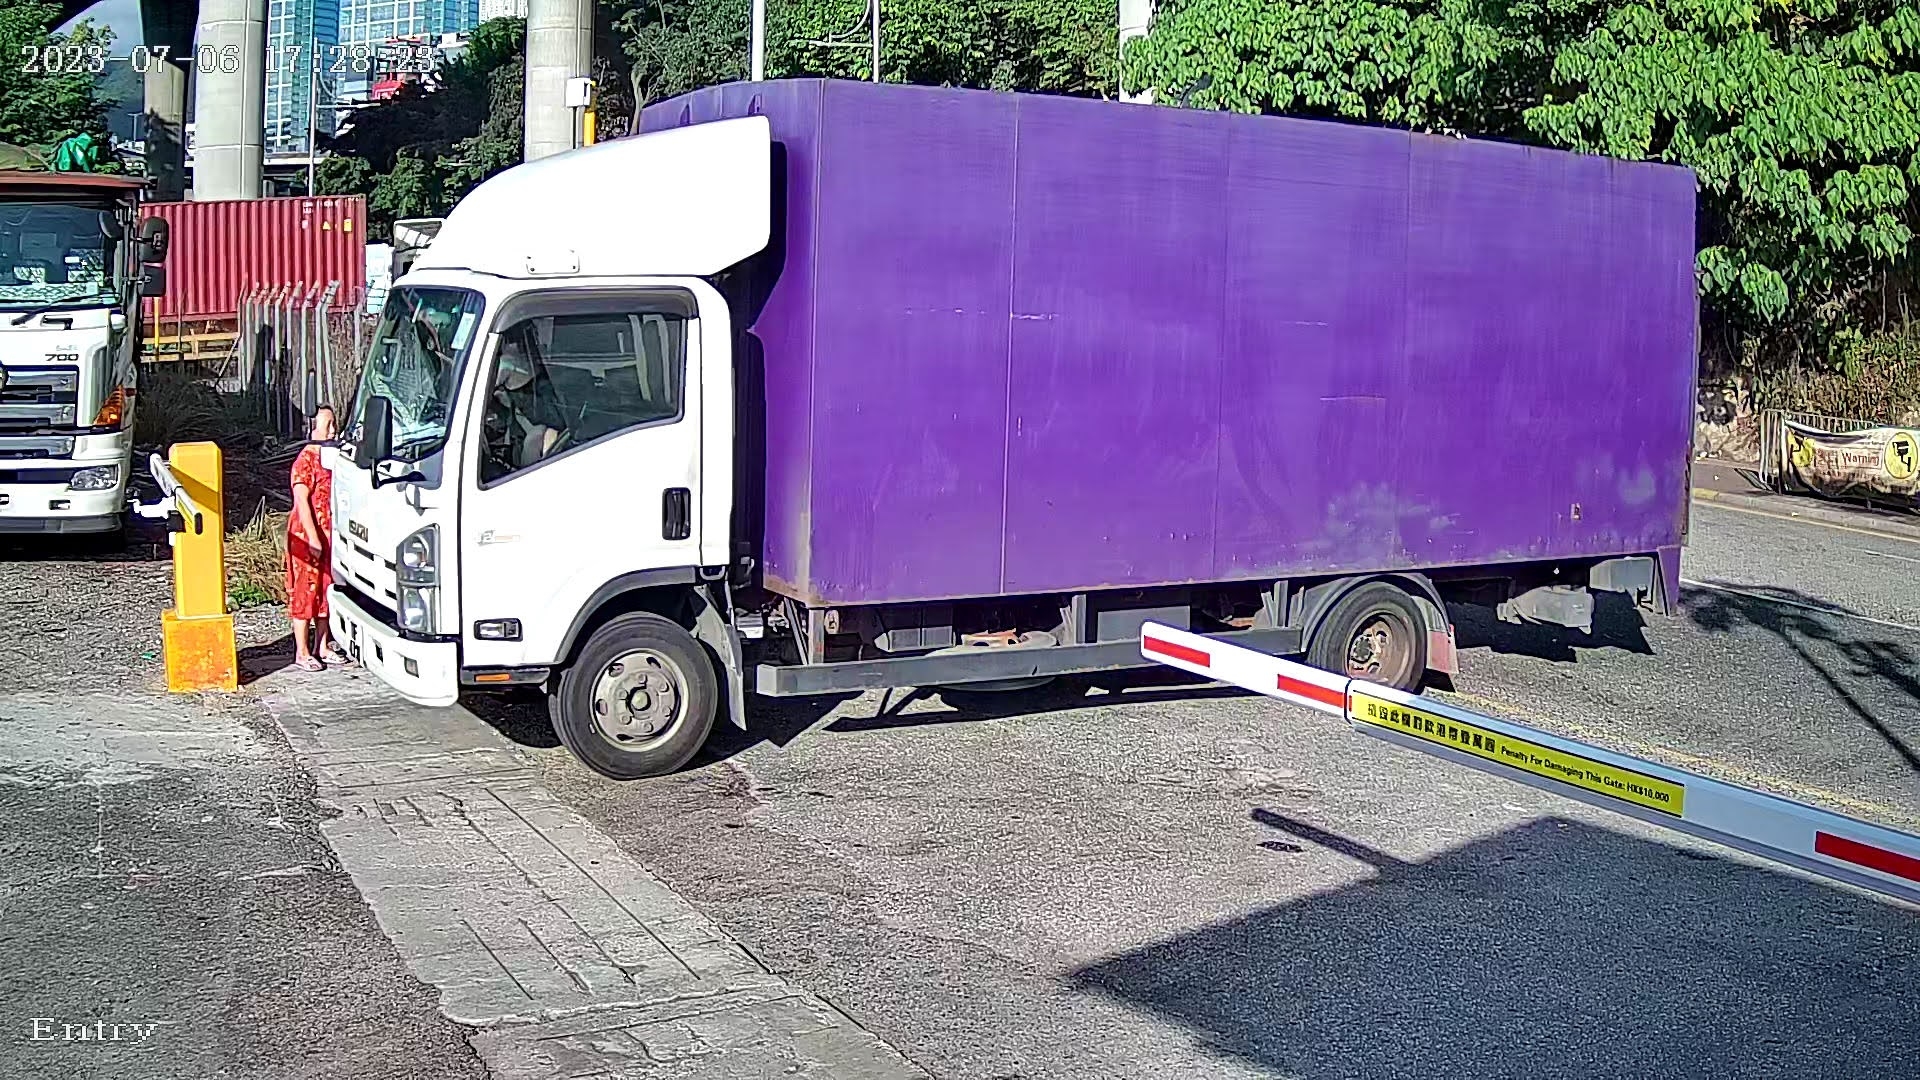truck: (258, 32, 1739, 804)
